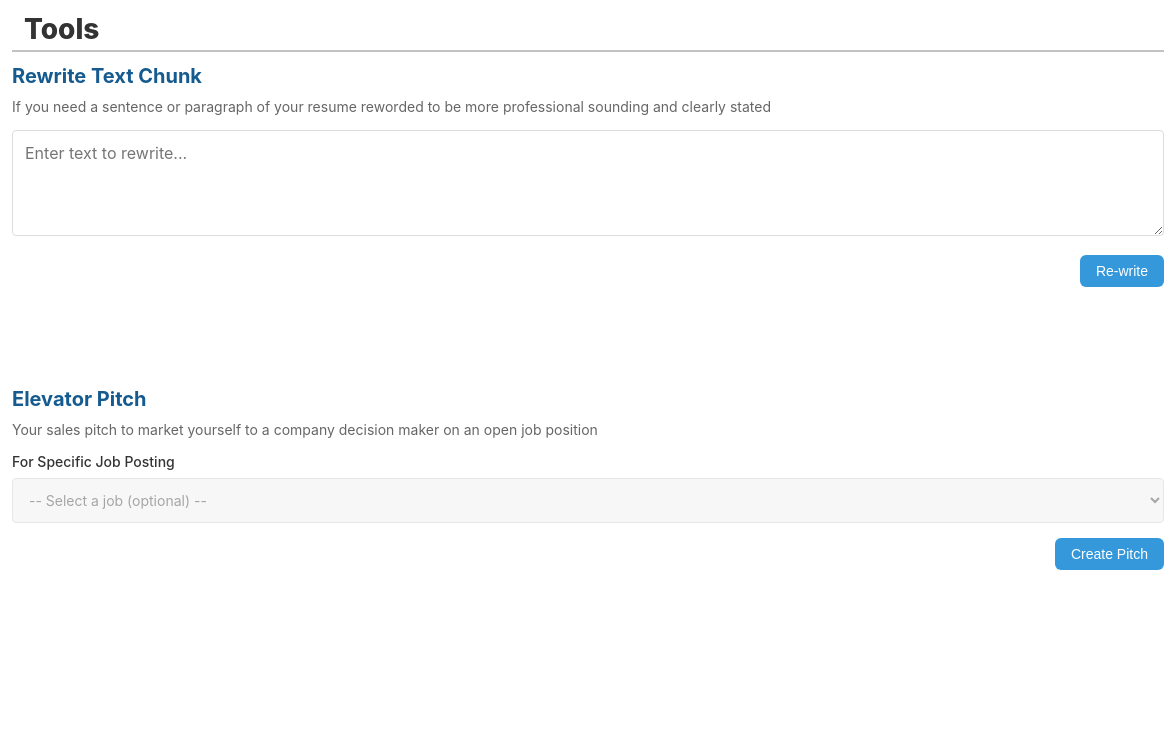
Tools Component › Rewrite Text Functionality › displays rewrite results
The width and height of the screenshot is (1176, 732).
In the text box with placeholder "Enter text to rewrite...": (588, 183) x1=12 y1=130 x2=1164 y2=236, type "Original text"
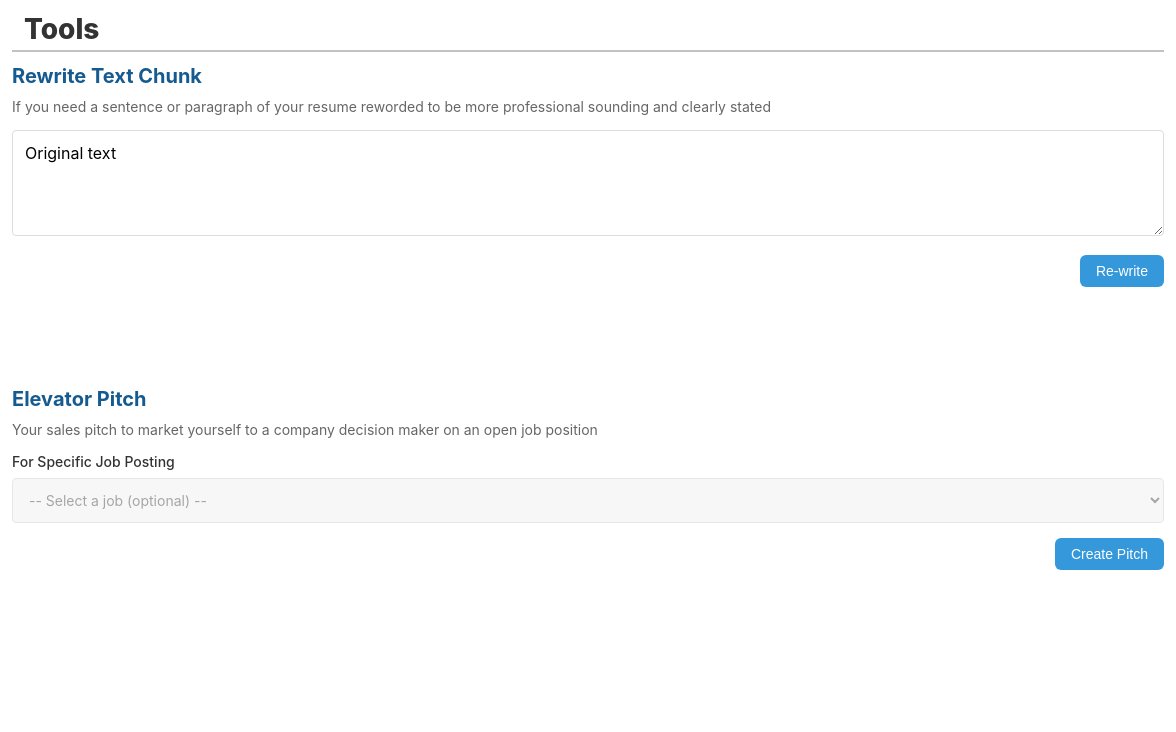
Click the button "Re-write": (1122, 271) x1=1080 y1=255 x2=1164 y2=287
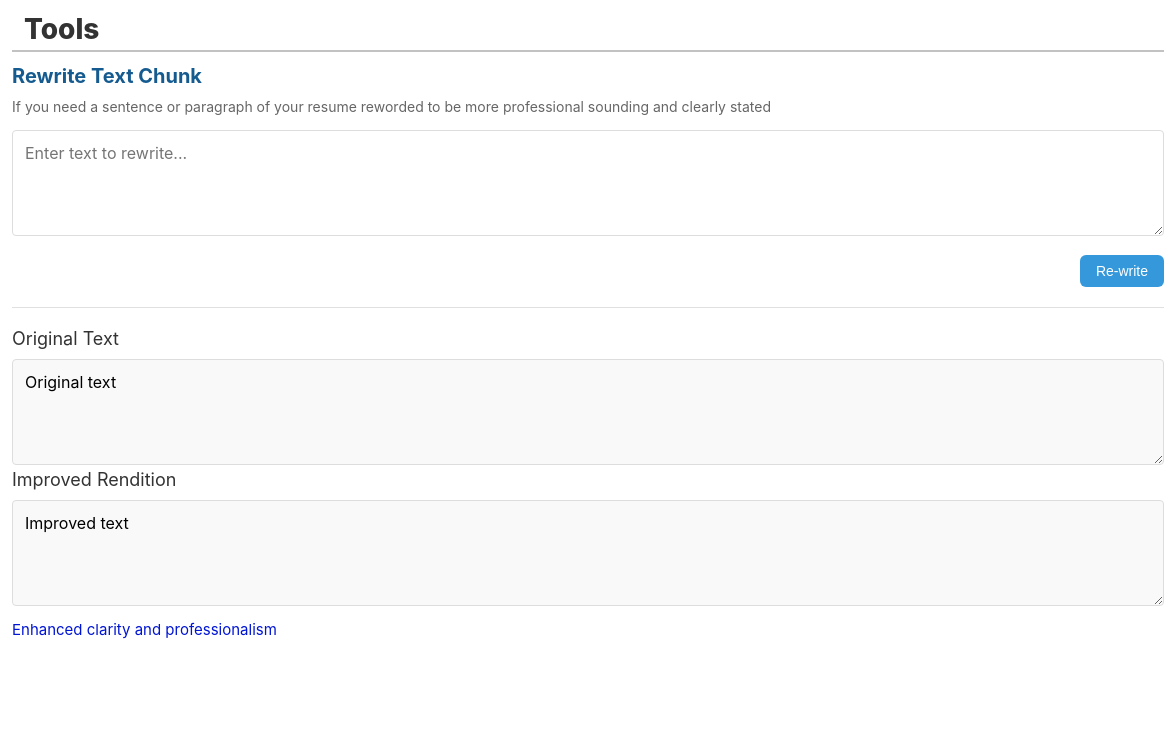
expect the heading "Original Text" is shown: met, box x1=12 y1=328 x2=119 y2=349
expect the heading "Improved Rendition" is shown: met, box x1=12 y1=469 x2=176 y2=490
expect the text "Enhanced clarity and professionalism" is shown: met, box x1=12 y1=620 x2=277 y2=639
